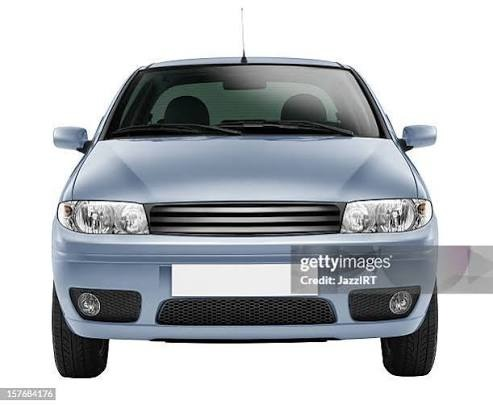car: (47, 43, 436, 377)
